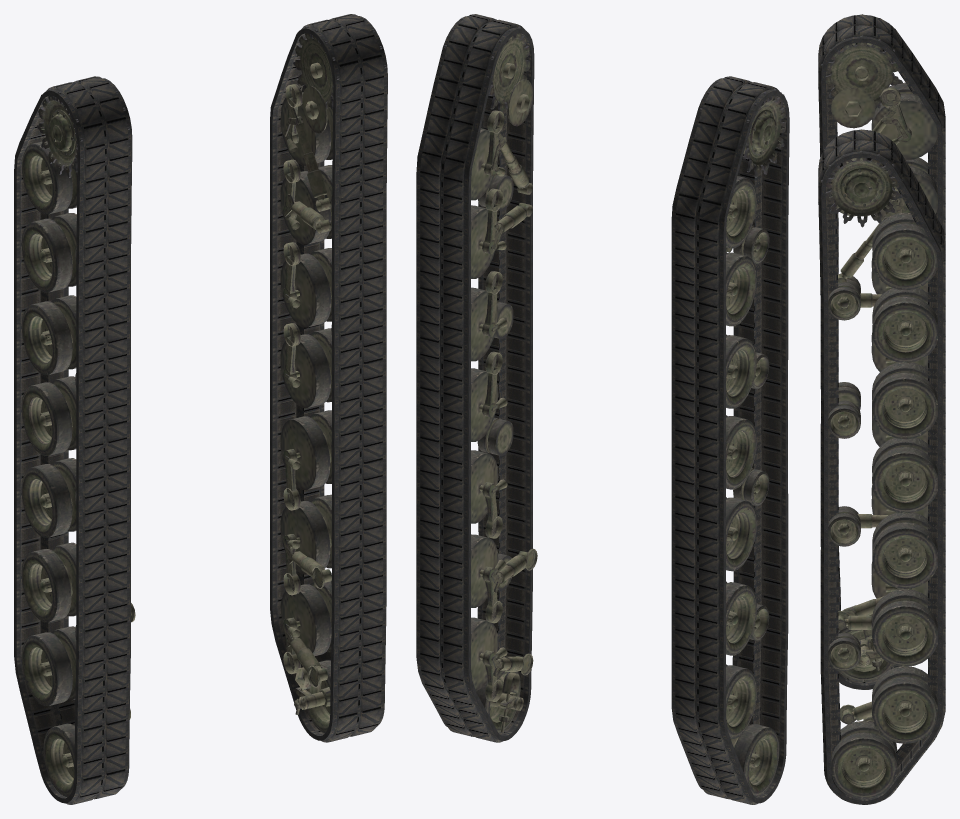
File: Chassis.glb
3 renders of one model, left to right at view 1: azimuth 30°, elevation 25°; view 2: azimuth 150°, elevation 25°; view 3: azimuth 270°, elevation 25°, orthographic. The views are drawn at different scales.
Parts seen in each view (by area): view 1: set_1_group_0, set_0_group_0, set_3_group_0, set_2_group_0; view 2: set_1_group_0, set_0_group_0, set_3_group_0, set_2_group_0; view 3: set_3_group_0, set_0_group_0, set_2_group_0, set_1_group_0.
Boxes of the visible parts, bbox=[...] form: set_1_group_0: bbox=[14, 76, 132, 804]; set_0_group_0: bbox=[270, 14, 387, 742]; set_3_group_0: bbox=[280, 18, 386, 733]; set_2_group_0: bbox=[21, 80, 135, 797]; set_1_group_0: bbox=[671, 76, 789, 804]; set_0_group_0: bbox=[416, 14, 534, 742]; set_3_group_0: bbox=[439, 17, 537, 733]; set_2_group_0: bbox=[699, 80, 785, 797]; set_3_group_0: bbox=[821, 129, 937, 798]; set_0_group_0: bbox=[818, 129, 945, 804]; set_2_group_0: bbox=[821, 14, 937, 681]; set_1_group_0: bbox=[818, 14, 945, 689].
Size of the model in its own units: 2.99 by 6.52 by 1.14.
Materials: 4 (4 with a texture image).
